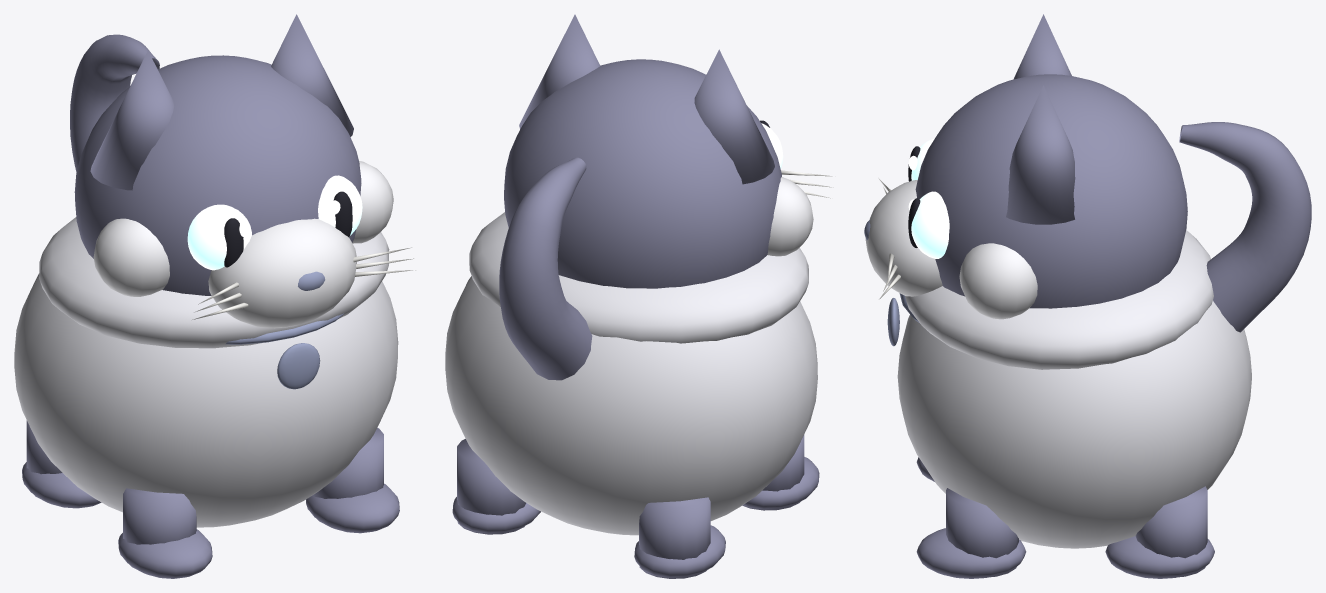
The model's file is ragdoll_flopper.glb.
The picture shows the model from 3 angles, left to right: view 1: azimuth 30°, elevation 25°; view 2: azimuth 150°, elevation 25°; view 3: azimuth 270°, elevation 25°; orthographic projection. The views are drawn at different scales.
Parts seen in each view (by area): view 1: ragdoll_flopper; view 2: ragdoll_flopper; view 3: ragdoll_flopper.
Part boxes in pixels (<box>): ragdoll_flopper: <box>14,14,415,578</box>; ragdoll_flopper: <box>445,14,833,578</box>; ragdoll_flopper: <box>864,14,1311,578</box>.
Size of the model in its own units: 1.33 by 1.82 by 1.54.
